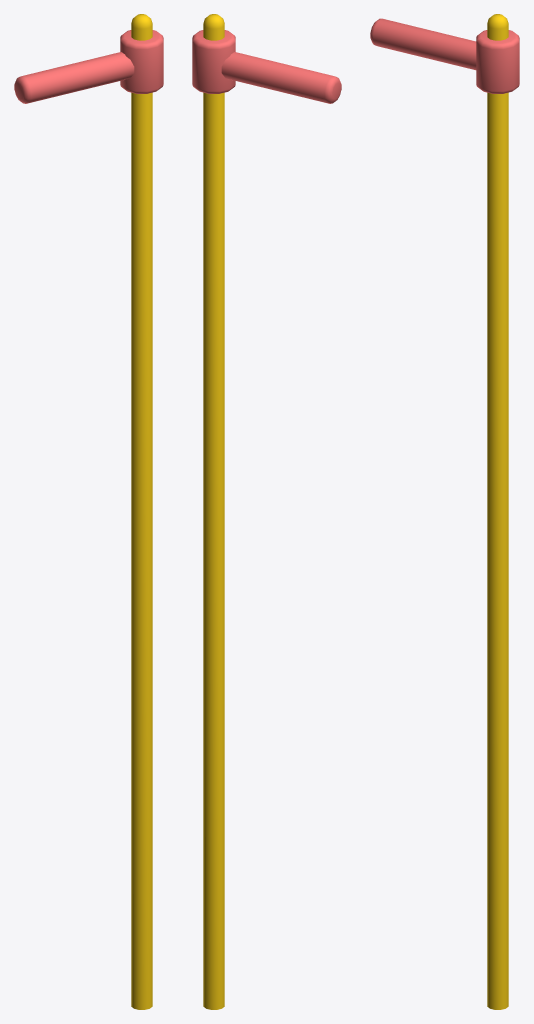
File: Post.fbx
3 views of the same model, side by side, from view 1: azimuth 30°, elevation 25°; view 2: azimuth 150°, elevation 25°; view 3: azimuth 330°, elevation 25° (orthographic).
Parts seen in each view (by area): view 1: Barrier; view 2: Barrier; view 3: Barrier.
Boxes of the visible parts, left/top/right/bottom form: Barrier: left=14, top=14, right=163, bottom=1009; Barrier: left=192, top=14, right=341, bottom=1009; Barrier: left=370, top=14, right=519, bottom=1009.
Size of the model in its own units: 576 by 3856 by 153.
